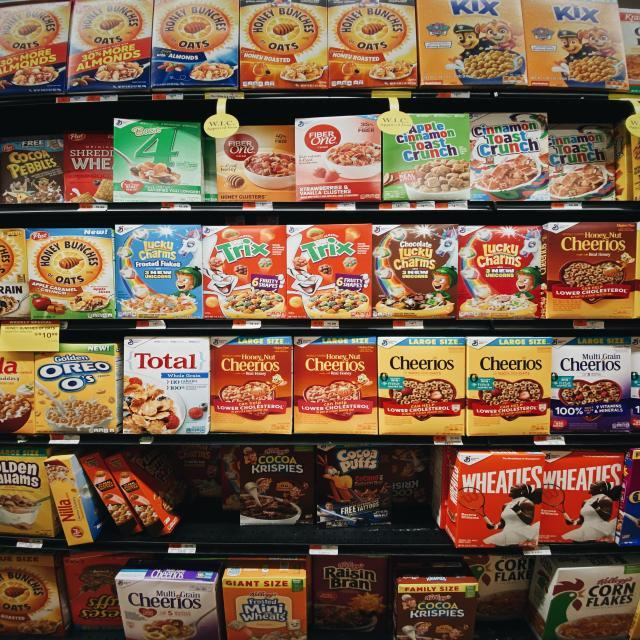Imprecise: (232, 445, 448, 546), (44, 441, 230, 541), (0, 118, 113, 203), (545, 110, 631, 201), (468, 556, 551, 638), (312, 555, 390, 640), (60, 554, 127, 638)
